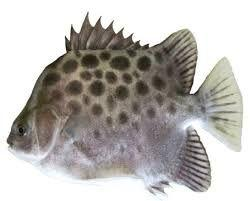Scat Fish: (7, 12, 243, 199)
